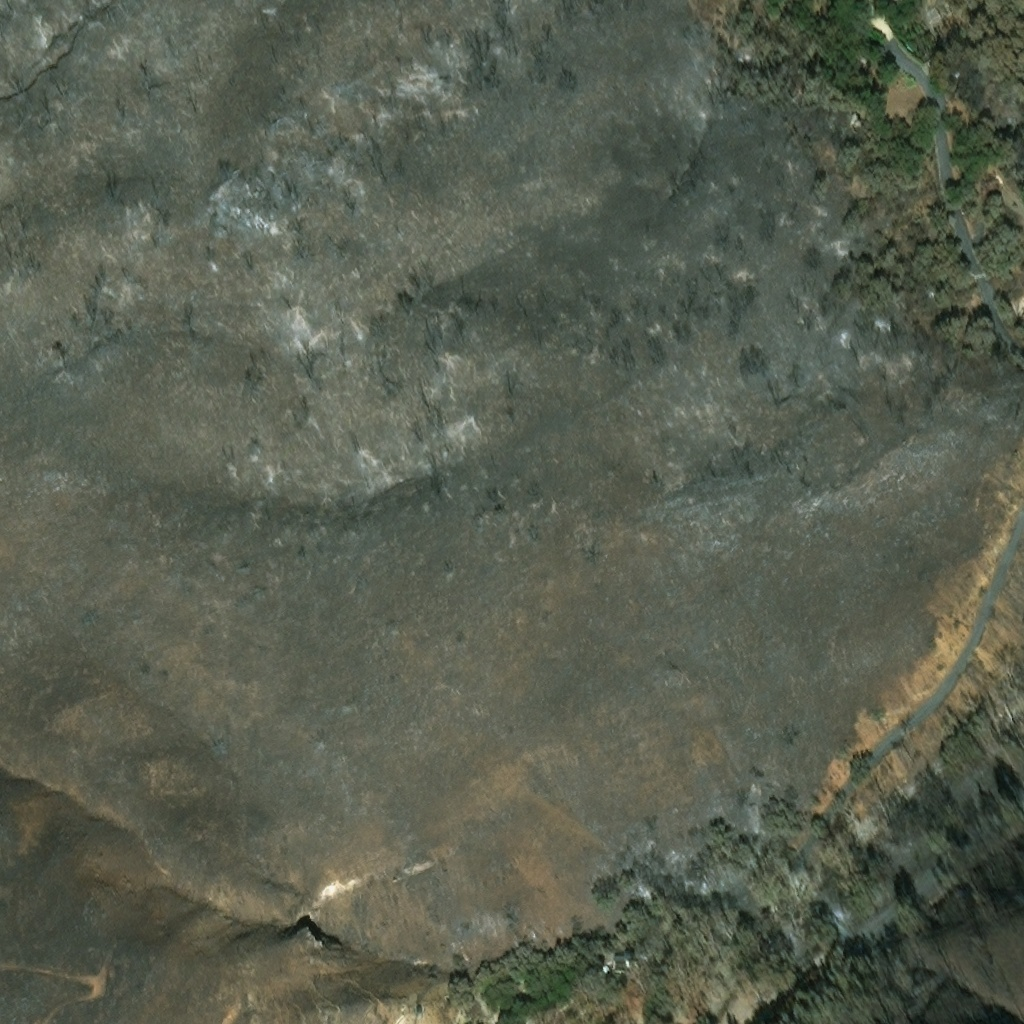3 destroyed: (851, 115, 858, 123), (854, 123, 862, 130)
4 un-classified: (891, 0, 915, 5)
